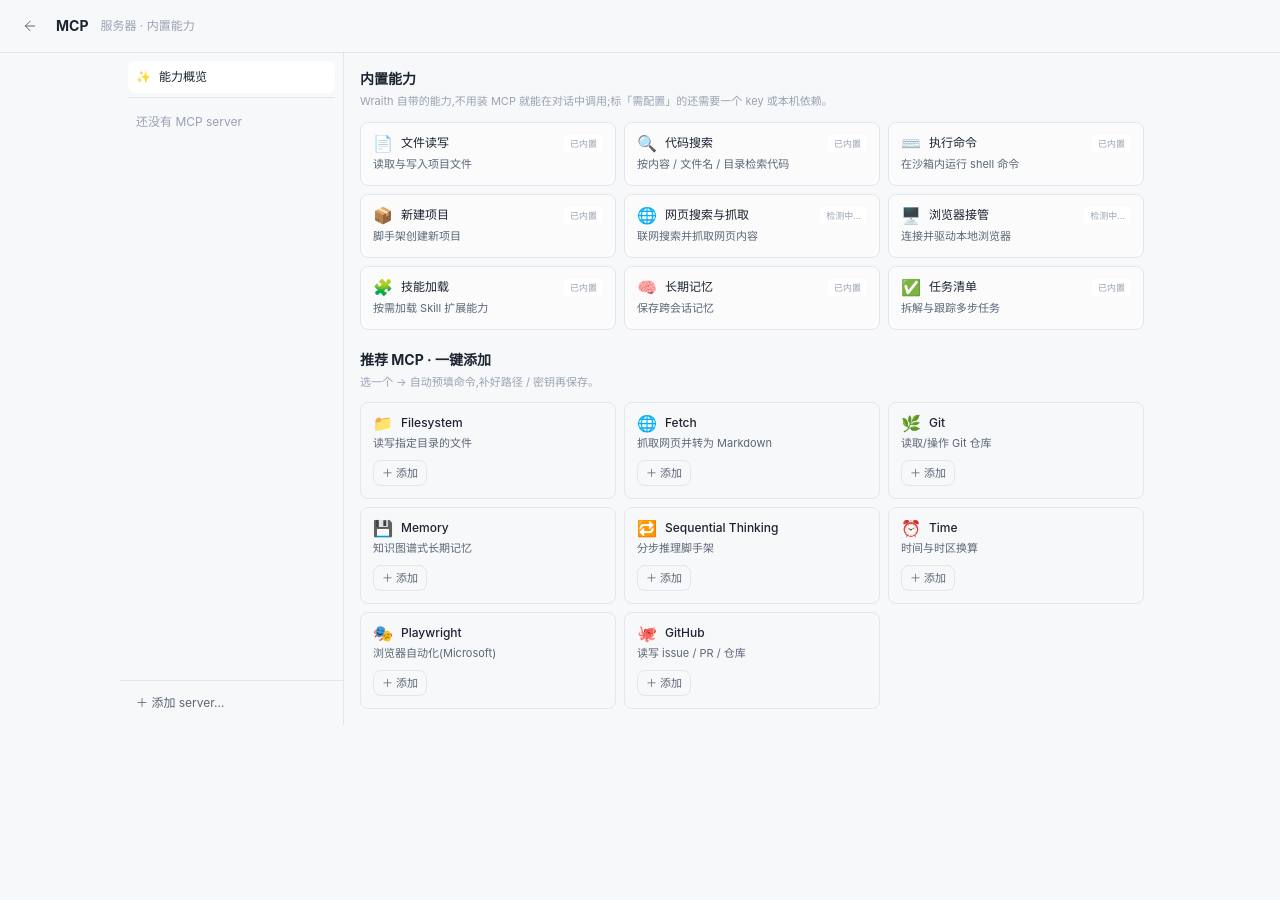
能力卡片详情里的搜索后端表单 › 点「网页搜索与抓取」出表单
This screenshot has width=1280, height=900.
Click the button with test id "mcp-builtin-card" showing "🌐 网页搜索与抓取 检测中… 联网搜索并抓取网页内容".
click(752, 226)  # box [624,194,880,258]
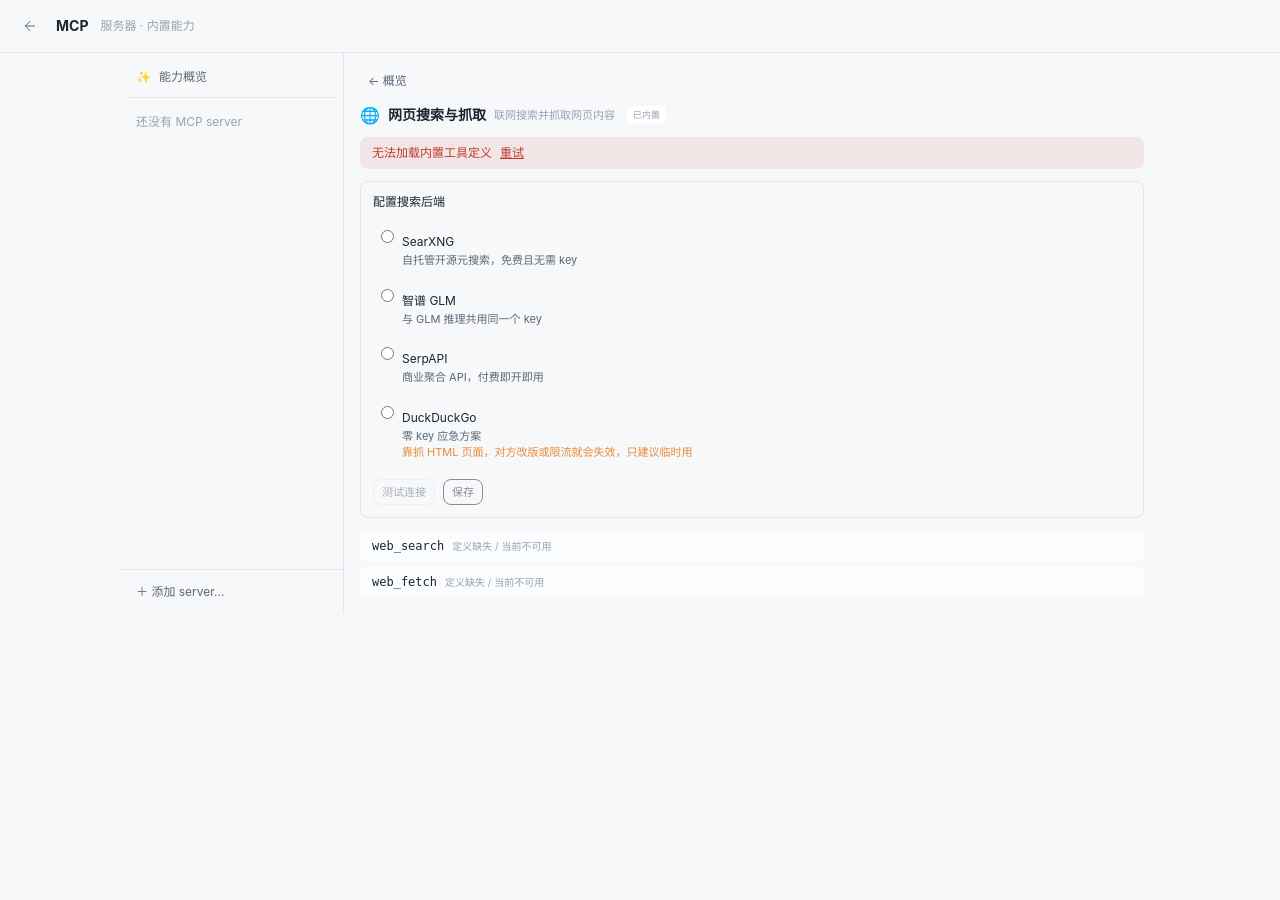
Result: the element with test id "search-backend-form" is shown at [360,181,1144,518]
